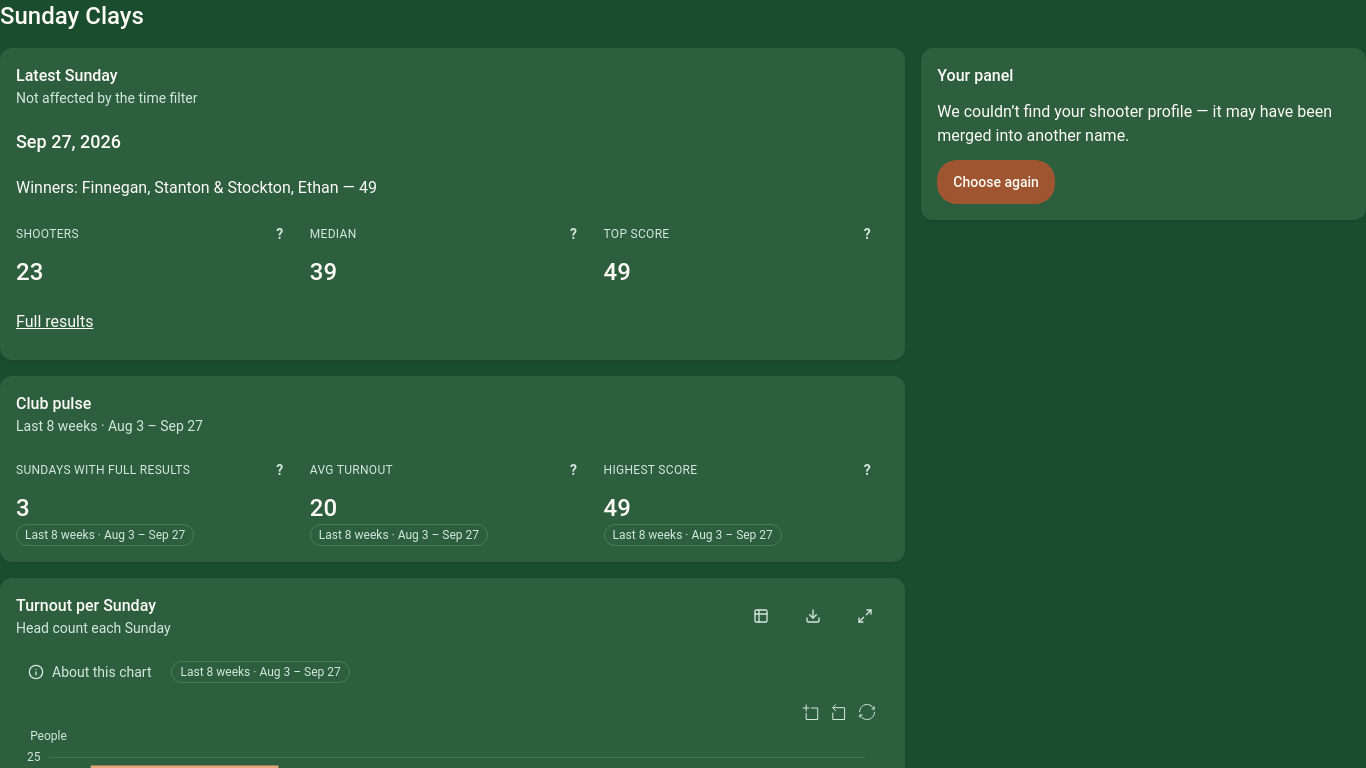
Test: HomePage › stale me id asks which one you are after choosing again
Click the button "Choose again": (996,182) x1=937 y1=160 x2=1055 y2=204
(page scrolled)
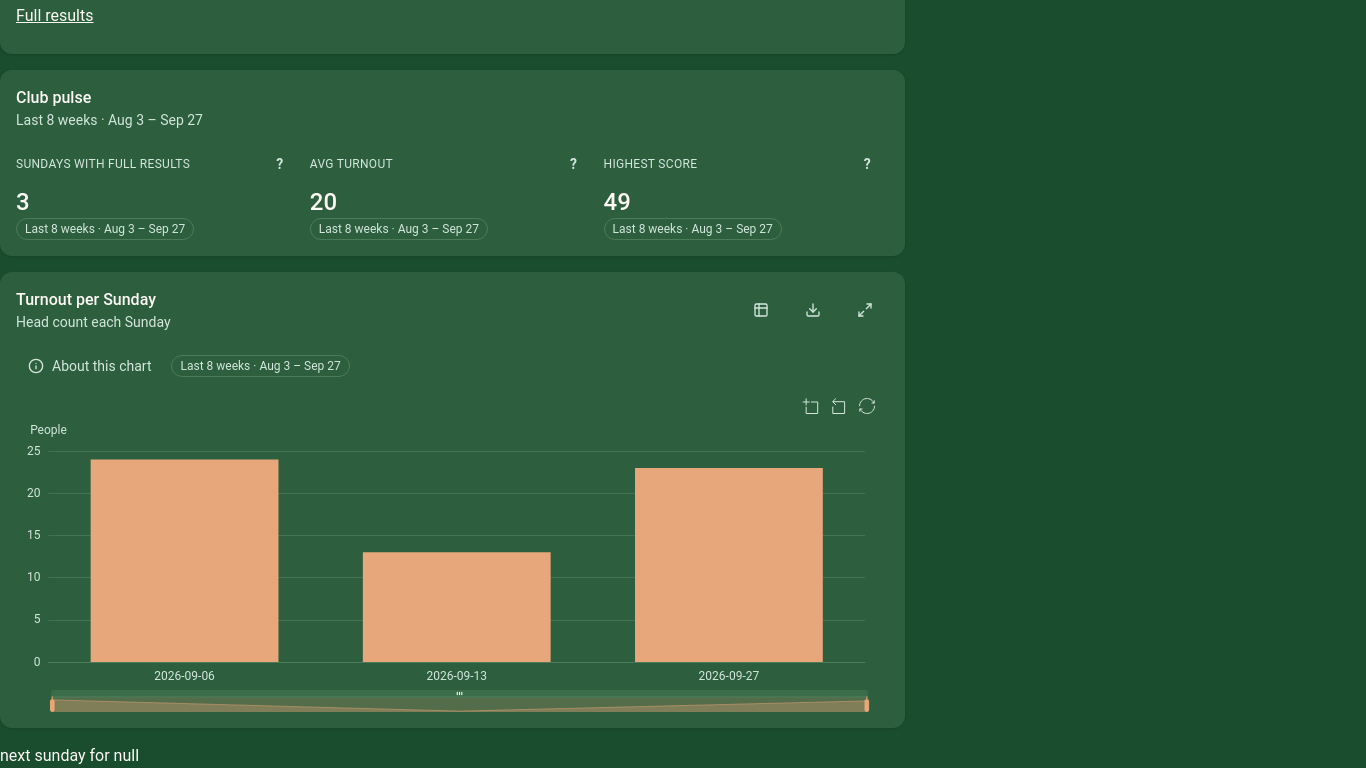
Check: the text "next sunday for null" is shown, box x1=0 y1=746 x2=139 y2=765
